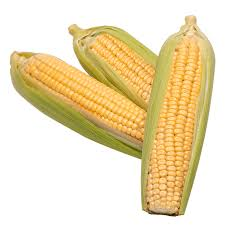tomate: (10, 19, 213, 217)
